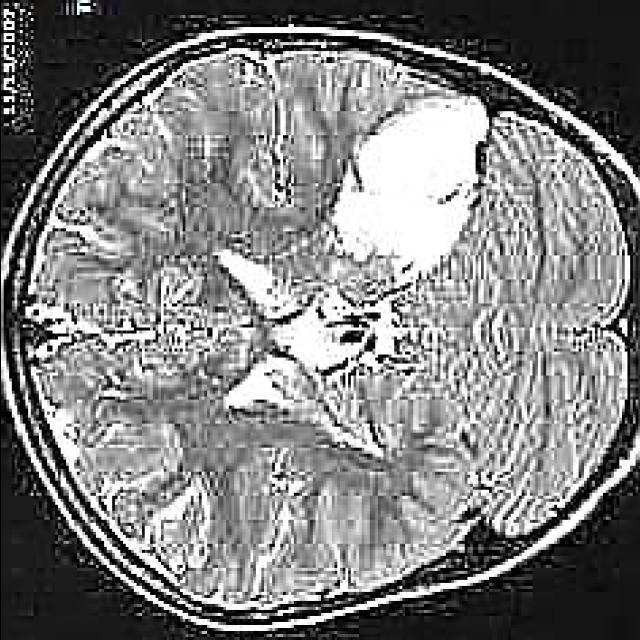tumor: (330, 93, 485, 273)
